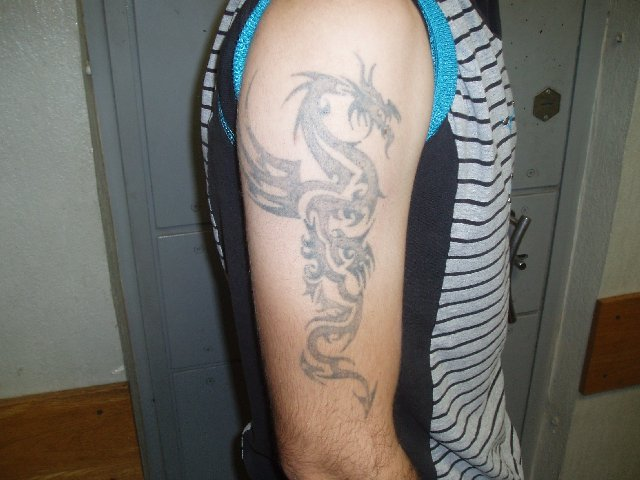tatu6_drakon: (233, 52, 415, 439)
